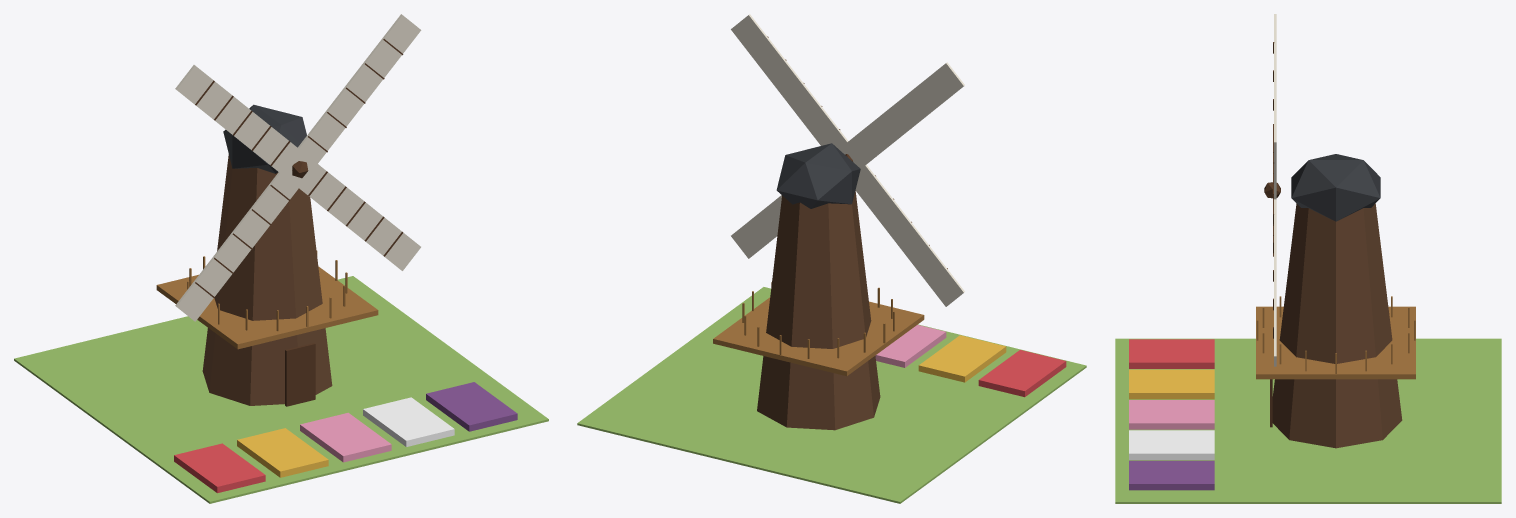
File: Sanayi_yel_degirmeni_1_Hafif.fbx
3 renders of one model, left to right at view 1: azimuth 30°, elevation 25°; view 2: azimuth 150°, elevation 25°; view 3: azimuth 270°, elevation 25°, orthographic. The views are drawn at different scales.
Visible parts, largest first — view 1: Sanayi_yel_degirmeni_1_Hafif; view 2: Sanayi_yel_degirmeni_1_Hafif; view 3: Sanayi_yel_degirmeni_1_Hafif.
Part boxes in pixels (x1,y1,x2,y2): Sanayi_yel_degirmeni_1_Hafif: (14,14,548,503); Sanayi_yel_degirmeni_1_Hafif: (577,14,1086,503); Sanayi_yel_degirmeni_1_Hafif: (1115,14,1501,503).
Size of the model in its own units: 14 by 14.34 by 14.
